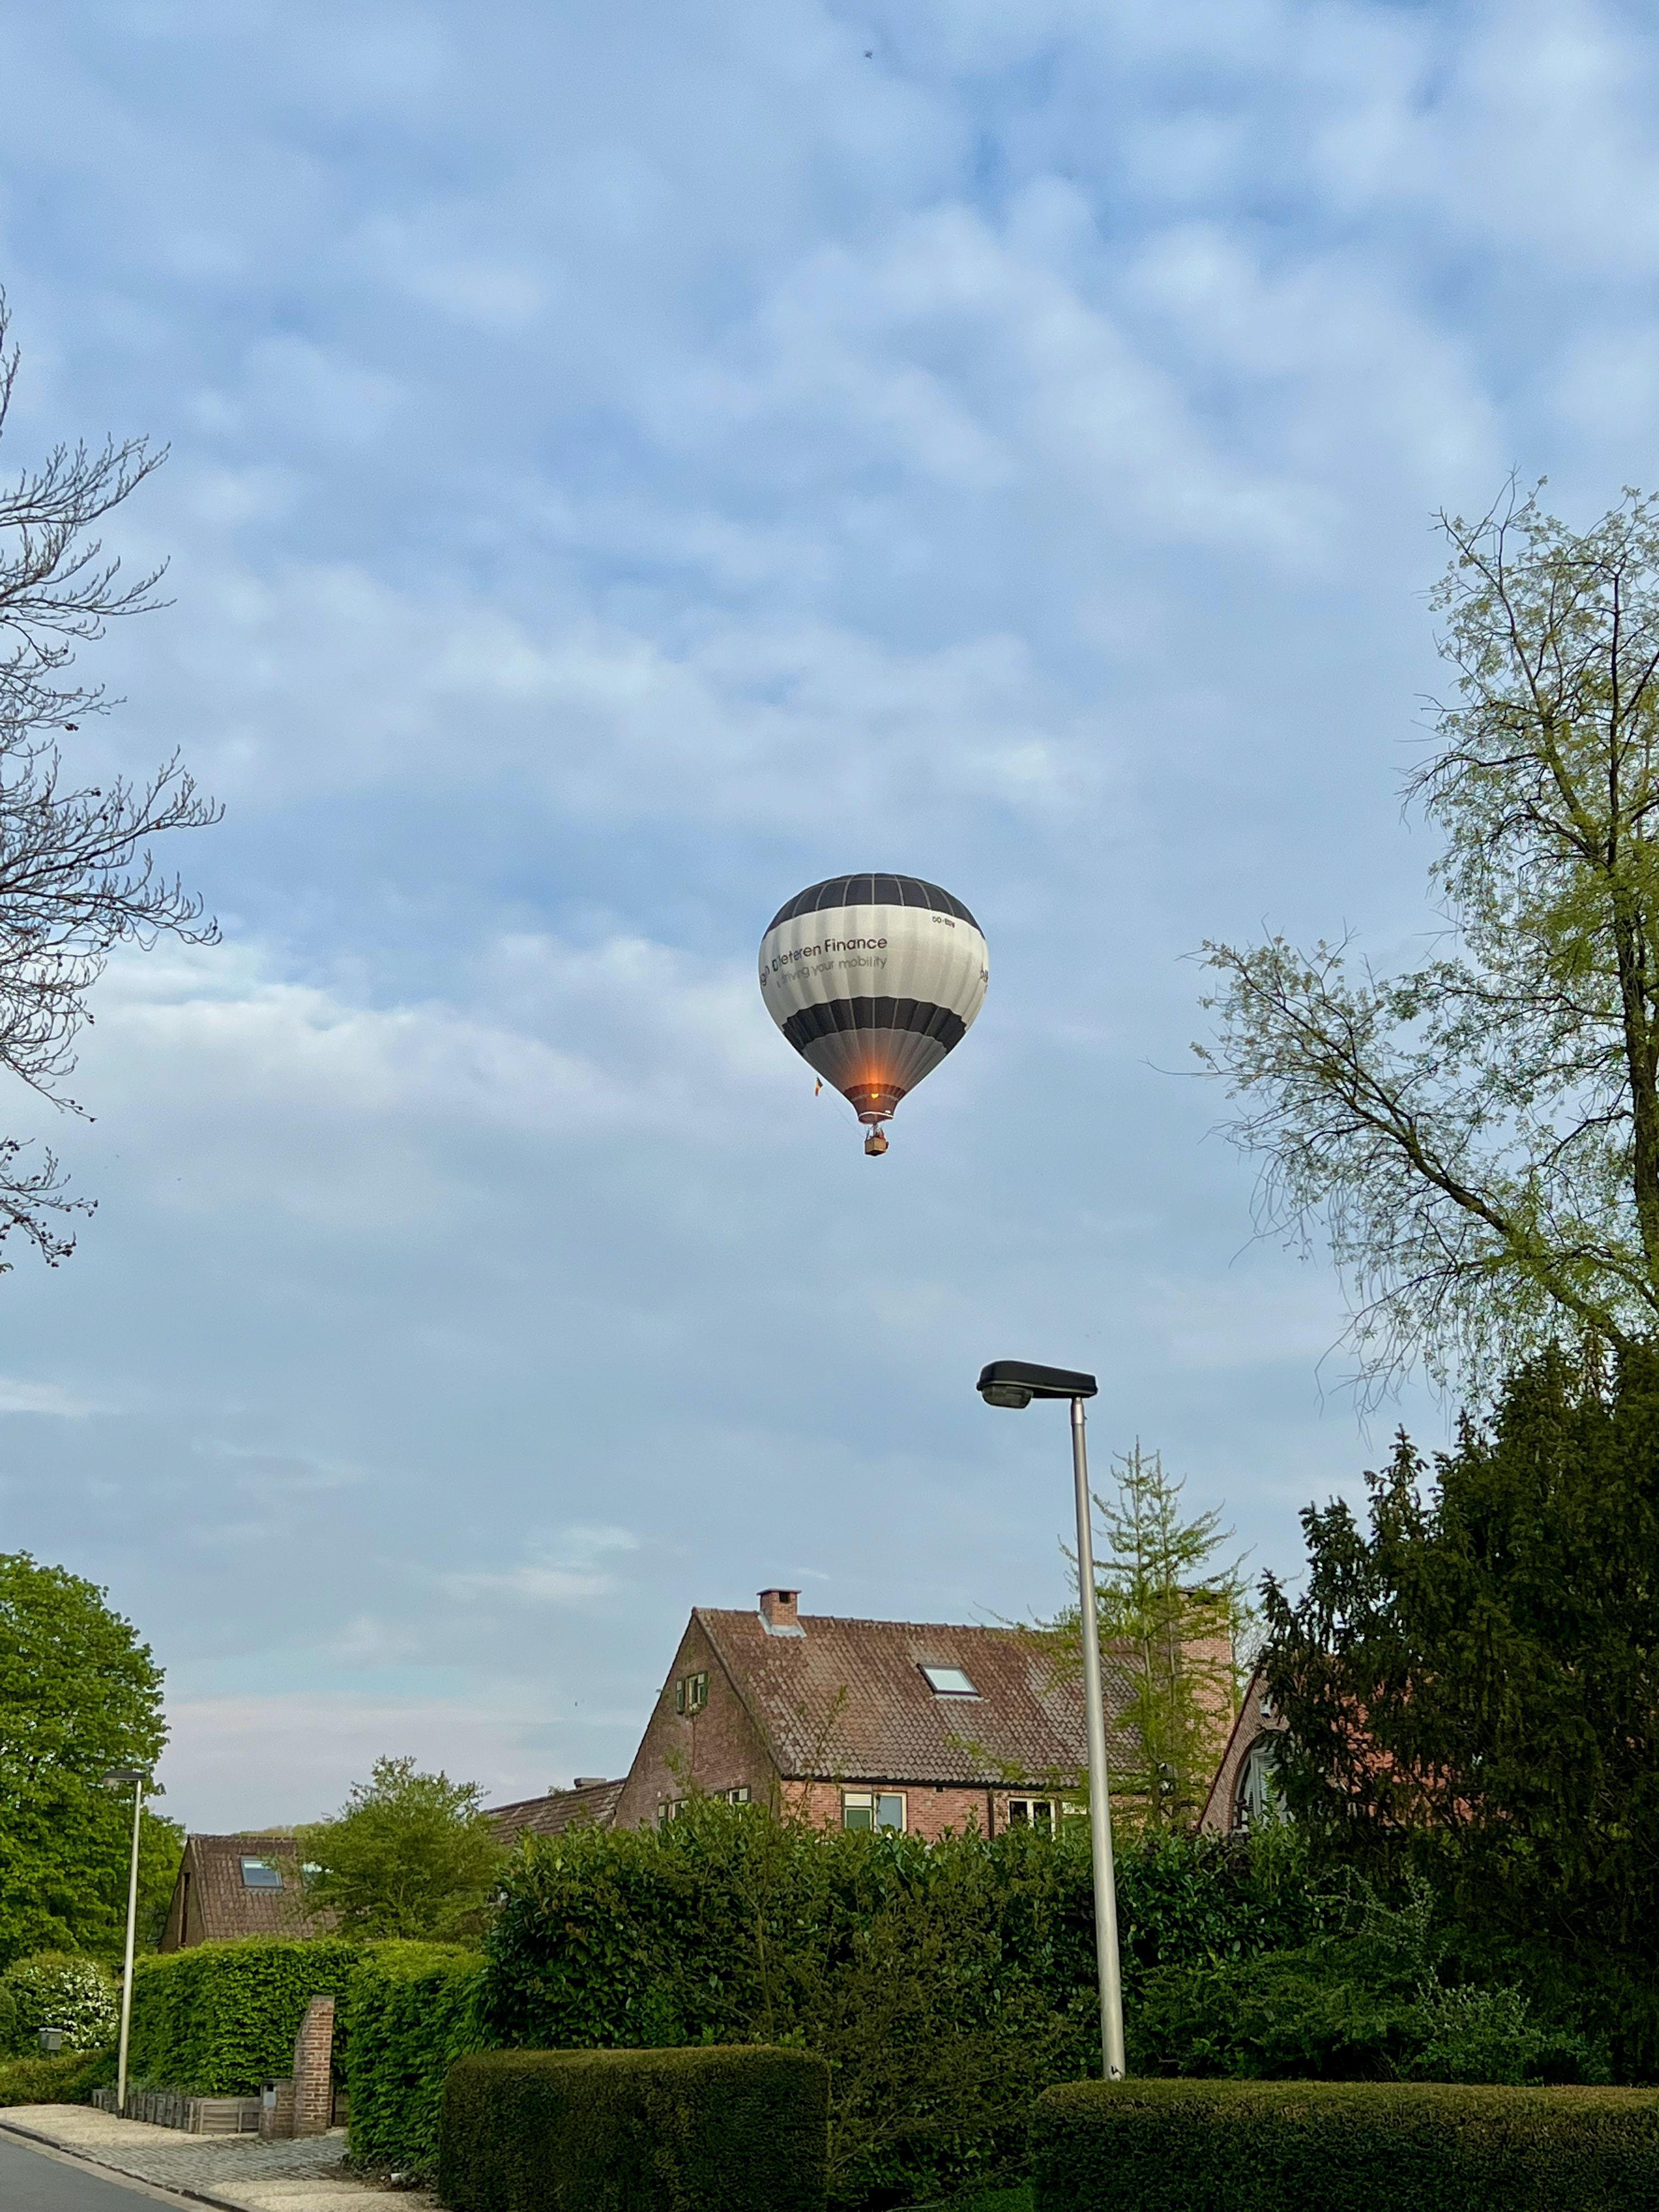hot air ballon: (756, 869, 990, 1157)
